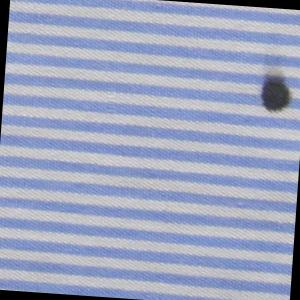Stain: (257, 55, 299, 121)
